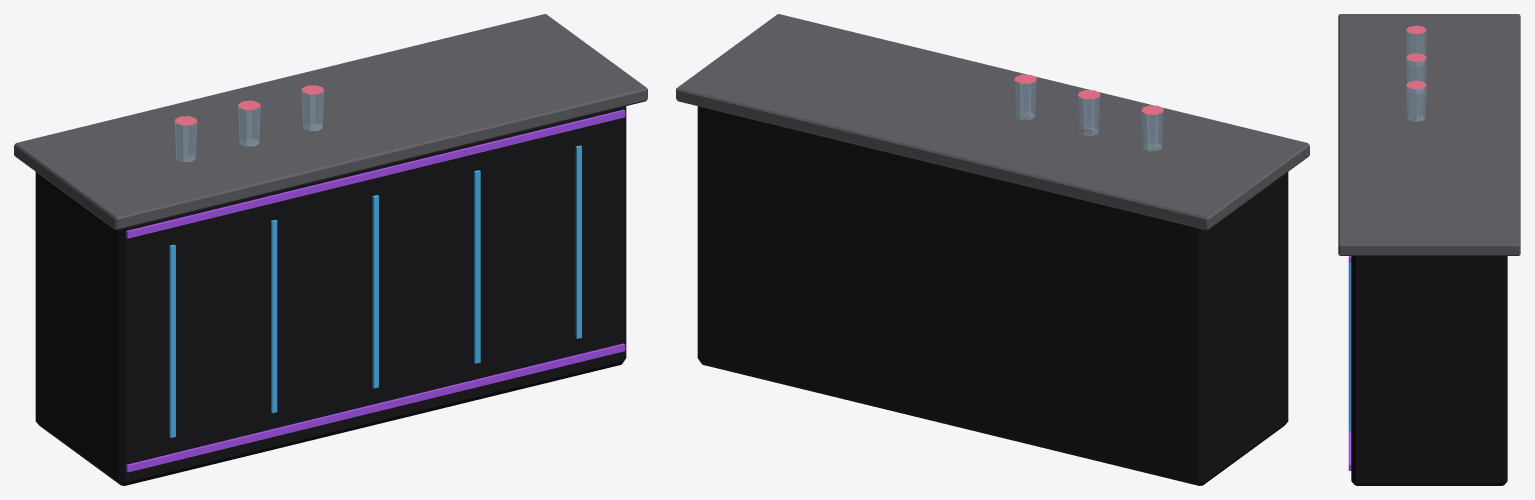
Rendered from neon_bar.obj.
3 views of the same model, side by side, from view 1: azimuth 30°, elevation 25°; view 2: azimuth 150°, elevation 25°; view 3: azimuth 270°, elevation 25° (orthographic). The views are drawn at different scales.
Visible parts, largest first — view 1: neon_bar; view 2: neon_bar; view 3: neon_bar.
Part boxes in pixels (x1,y1,x2,y2): neon_bar: [14, 14, 647, 485]; neon_bar: [676, 14, 1309, 485]; neon_bar: [1338, 14, 1520, 485].
Size of the model in its own units: 2.1 by 1.19 by 0.7.
